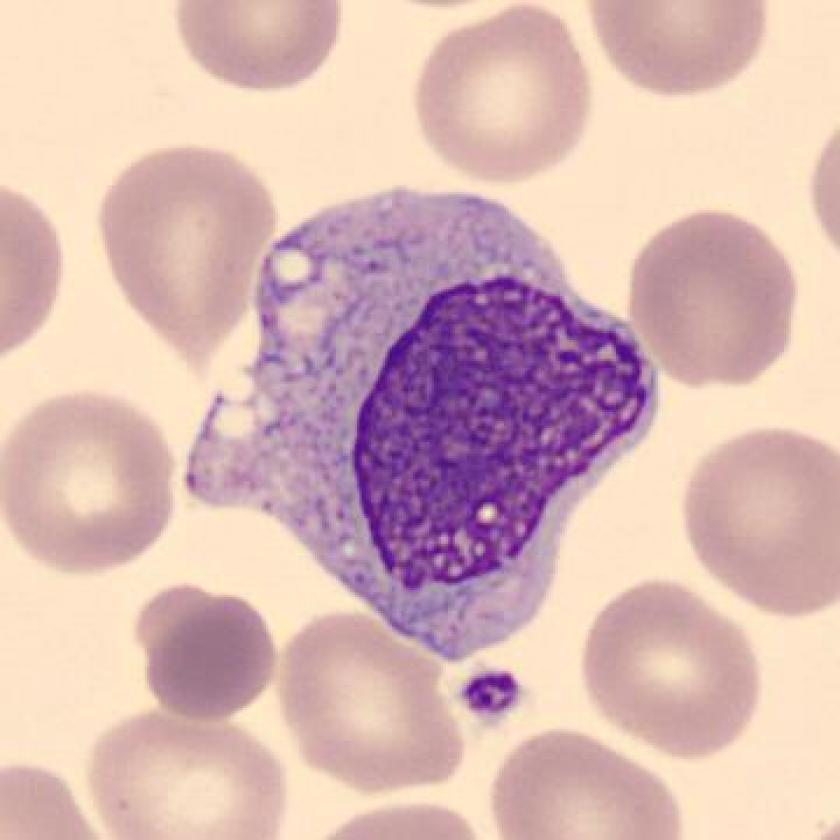monocyte: (165, 161, 683, 677)
